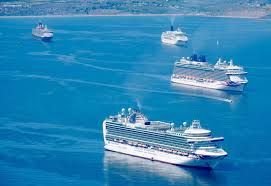ship: (99, 104, 229, 171), (172, 53, 247, 98), (28, 20, 57, 43), (160, 23, 188, 46)
